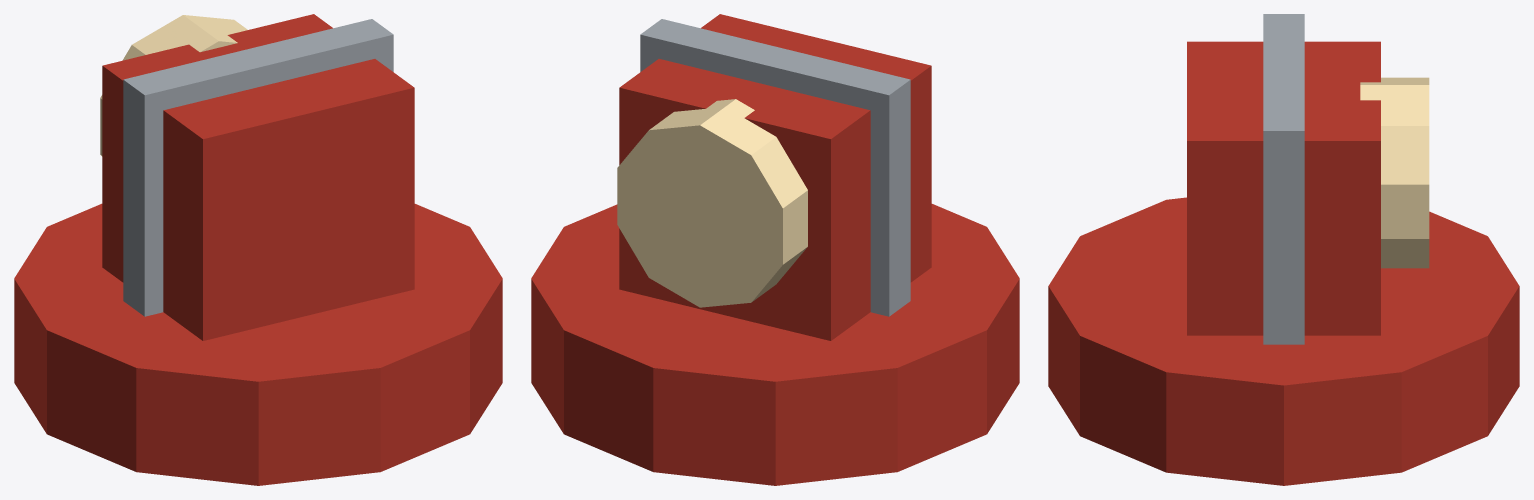
Rendered from PRP_Pickup_Parachute.fbx.
The picture shows the model from 3 angles, left to right: view 1: azimuth 30°, elevation 25°; view 2: azimuth 150°, elevation 25°; view 3: azimuth 270°, elevation 25°; orthographic projection. The views are drawn at different scales.
Parts seen in each view (by area): view 1: PRP_Pickup_Parachute__BODY; view 2: PRP_Pickup_Parachute__BODY; view 3: PRP_Pickup_Parachute__BODY.
Part boxes in pixels (x1=…): PRP_Pickup_Parachute__BODY: x1=14, y1=14, x2=502, y2=485; PRP_Pickup_Parachute__BODY: x1=531, y1=14, x2=1019, y2=485; PRP_Pickup_Parachute__BODY: x1=1048, y1=14, x2=1519, y2=485.
Size of the model in its own units: 0.68 by 0.5 by 0.68.
